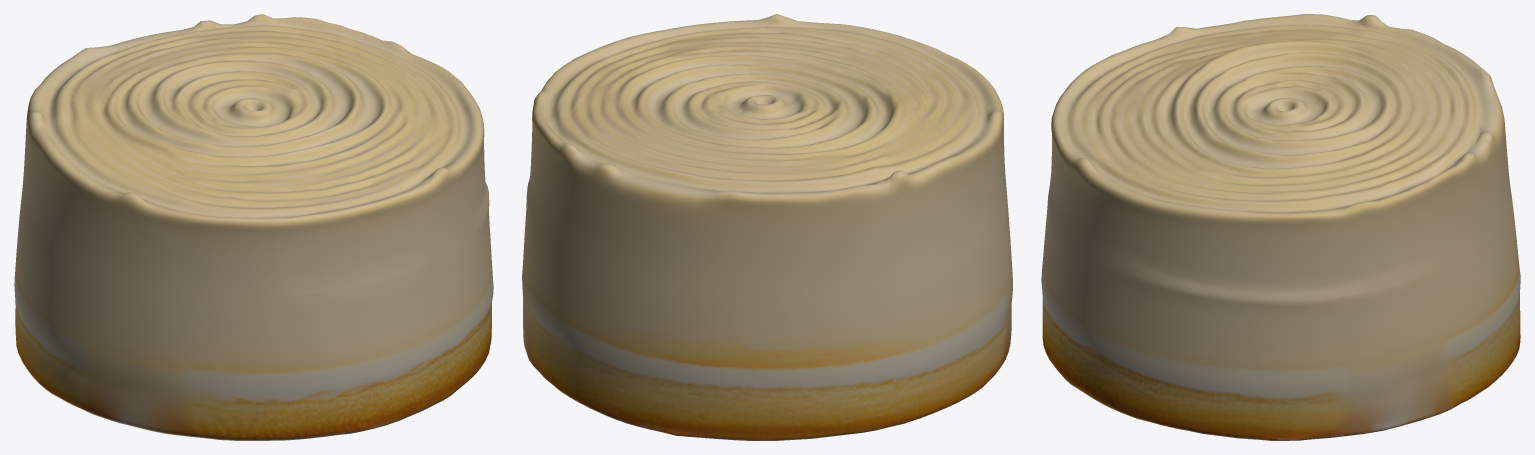
Rendered from cake_white.glb.
The picture shows the model from 3 angles, left to right: view 1: azimuth 30°, elevation 25°; view 2: azimuth 150°, elevation 25°; view 3: azimuth 270°, elevation 25°; orthographic projection. The views are drawn at different scales.
Visible parts, largest first — view 1: cake_white; view 2: cake_white; view 3: cake_white.
Part boxes in pixels (<box>): cake_white: <box>14,14,493,440</box>; cake_white: <box>522,14,1012,440</box>; cake_white: <box>1041,14,1520,440</box>.
Size of the model in its own units: 0.6611 by 0.3657 by 0.6569.
1 material, 1 textured.
